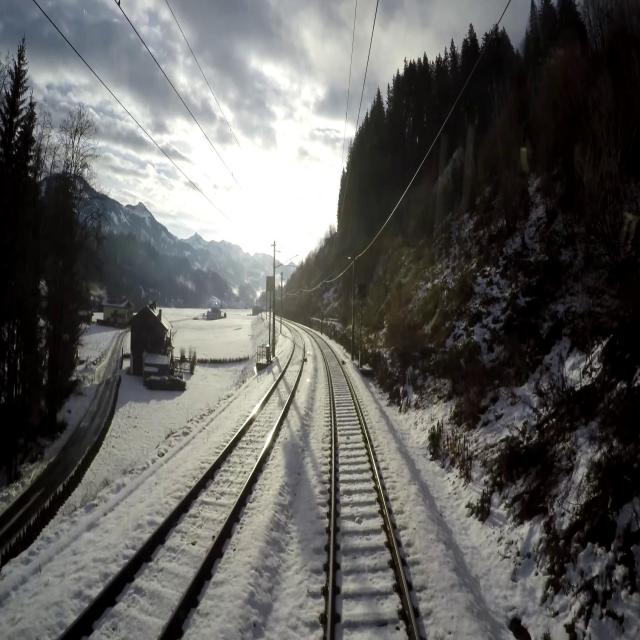rail-track: (64, 329, 302, 639), (316, 337, 415, 639)
